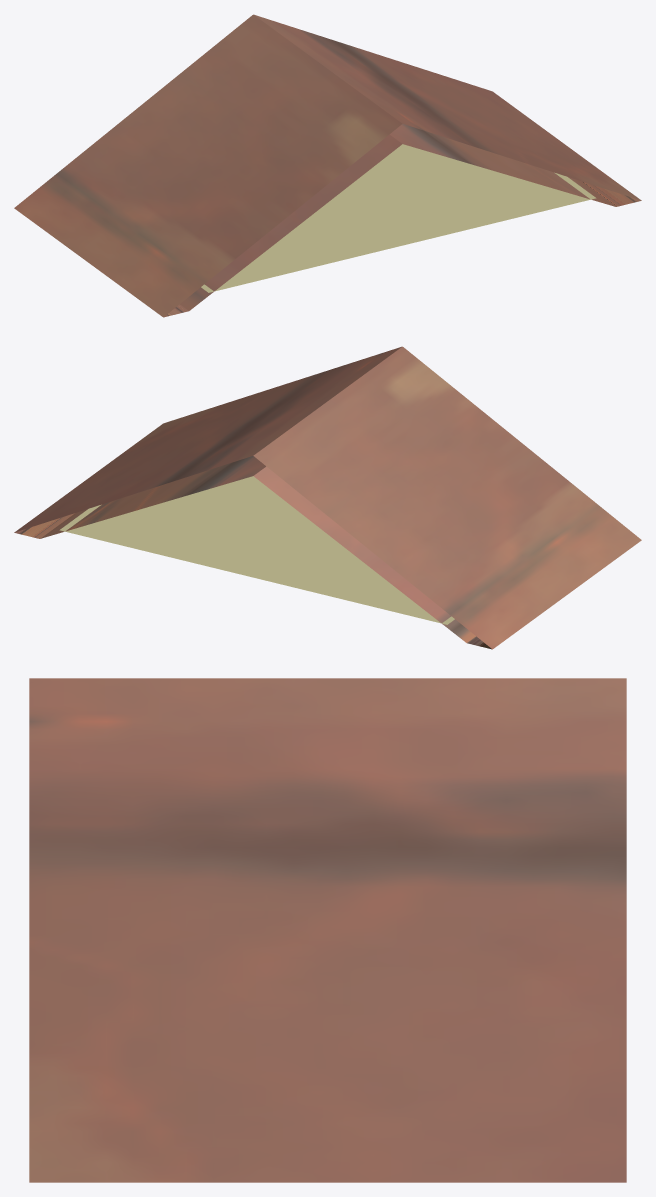
Rendered from roof_6x2x4.fbx.
3 renders of one model, top to bottom at view 1: azimuth 30°, elevation 25°; view 2: azimuth 150°, elevation 25°; view 3: azimuth 270°, elevation 25°, orthographic. The views are drawn at different scales.
Visible parts, largest first — view 1: roof_6x2x4; view 2: roof_6x2x4; view 3: roof_6x2x4.
Boxes of the visible parts, x1,y1,x2,y2 form: roof_6x2x4: (14,14,641,317); roof_6x2x4: (14,346,641,649); roof_6x2x4: (29,678,626,1182).
Bounding box in the file's own units: 740 × 200 × 400.
